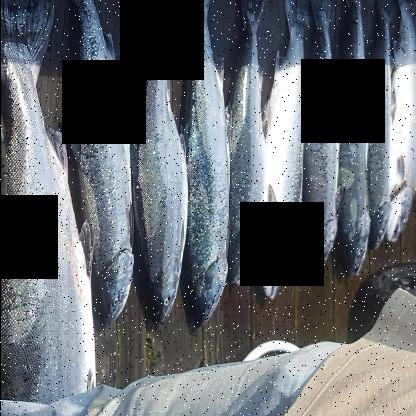fish: (65, 0, 135, 325), (127, 0, 188, 329), (171, 0, 227, 329), (253, 0, 312, 301), (225, 0, 276, 294), (331, 0, 371, 281), (304, 0, 337, 278), (387, 0, 415, 249), (366, 0, 390, 255)
